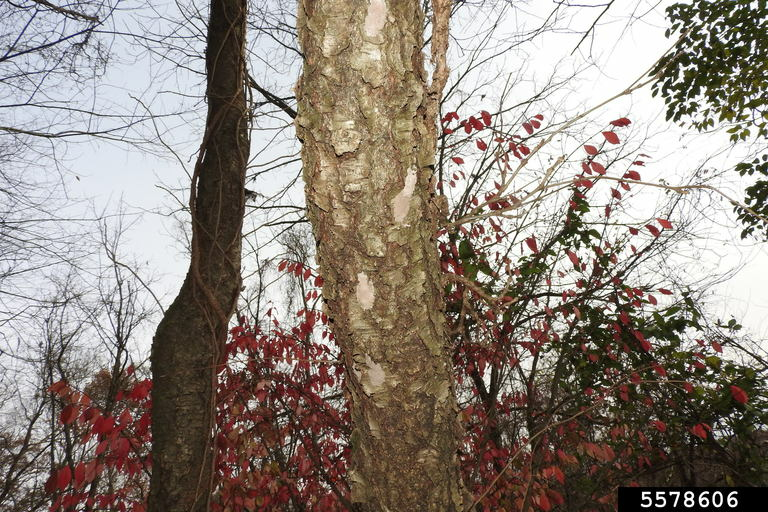egg masses: (384, 164, 419, 230), (343, 346, 389, 391), (349, 263, 378, 313), (359, 0, 393, 40)
